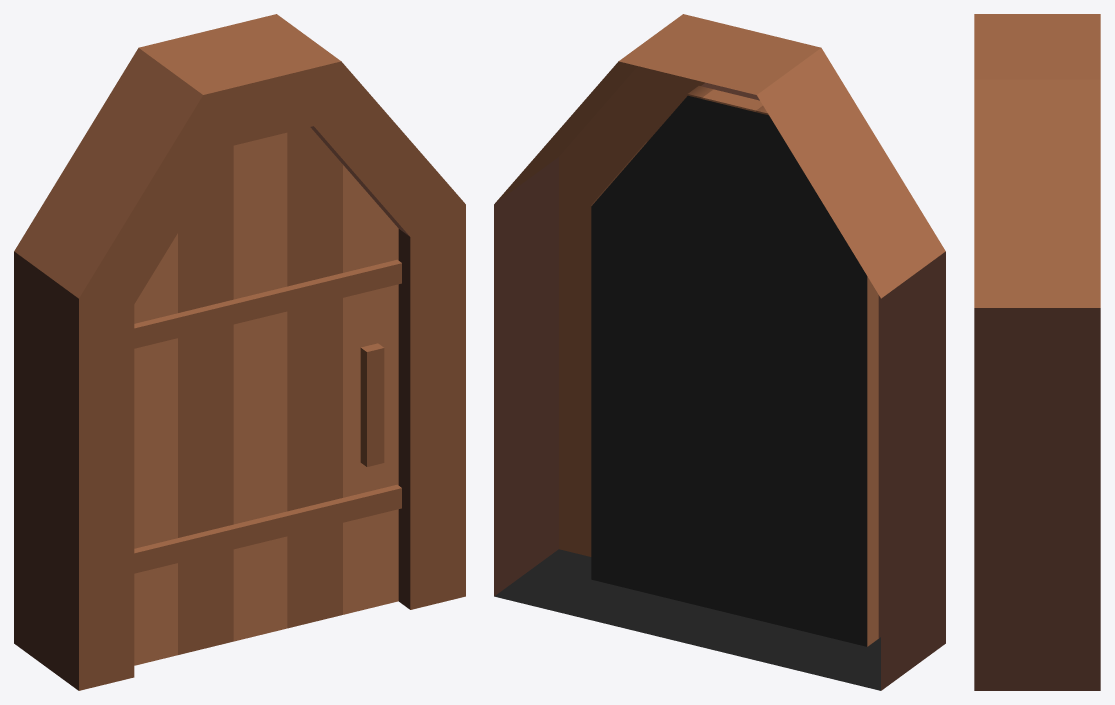
File: TB_Bd_Door_Arch.FBX
3 views of the same model, side by side, from view 1: azimuth 30°, elevation 25°; view 2: azimuth 150°, elevation 25°; view 3: azimuth 270°, elevation 25° (orthographic). The views are drawn at different scales.
Visible parts, largest first — view 1: TB_Bd_DoorFrame_Arch, TB_Bd_Door_Arch; view 2: TB_Bd_DoorFrame_Arch, TB_Bd_Door_Arch; view 3: TB_Bd_DoorFrame_Arch.
Part boxes in pixels (x1,y1,x2,y2): TB_Bd_DoorFrame_Arch: (14, 14, 465, 690); TB_Bd_Door_Arch: (134, 127, 401, 665); TB_Bd_DoorFrame_Arch: (494, 14, 945, 690); TB_Bd_Door_Arch: (591, 86, 878, 646); TB_Bd_DoorFrame_Arch: (974, 14, 1100, 690).
Bounding box in the file's own units: 1.4 × 1.95 × 0.4047.
